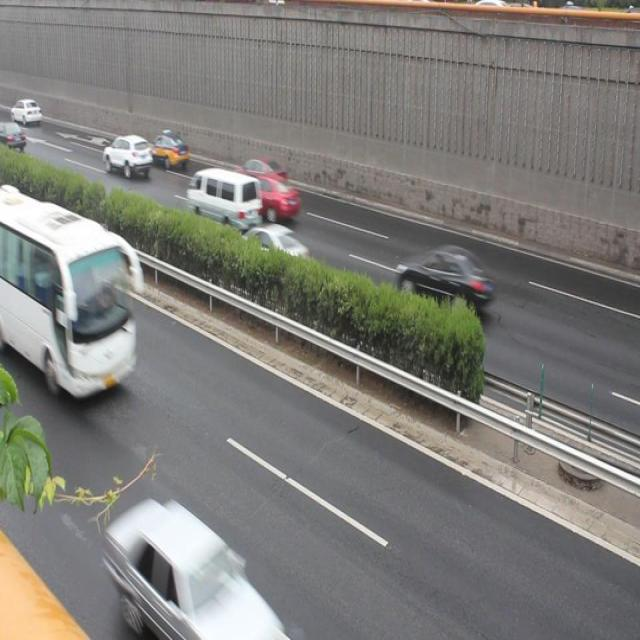car: (104, 502, 288, 640), (397, 246, 494, 310), (244, 218, 311, 271), (250, 173, 302, 220), (102, 132, 150, 181), (235, 150, 287, 188), (144, 125, 188, 169)
truck: (190, 163, 258, 230)
van: (1, 180, 138, 392)
